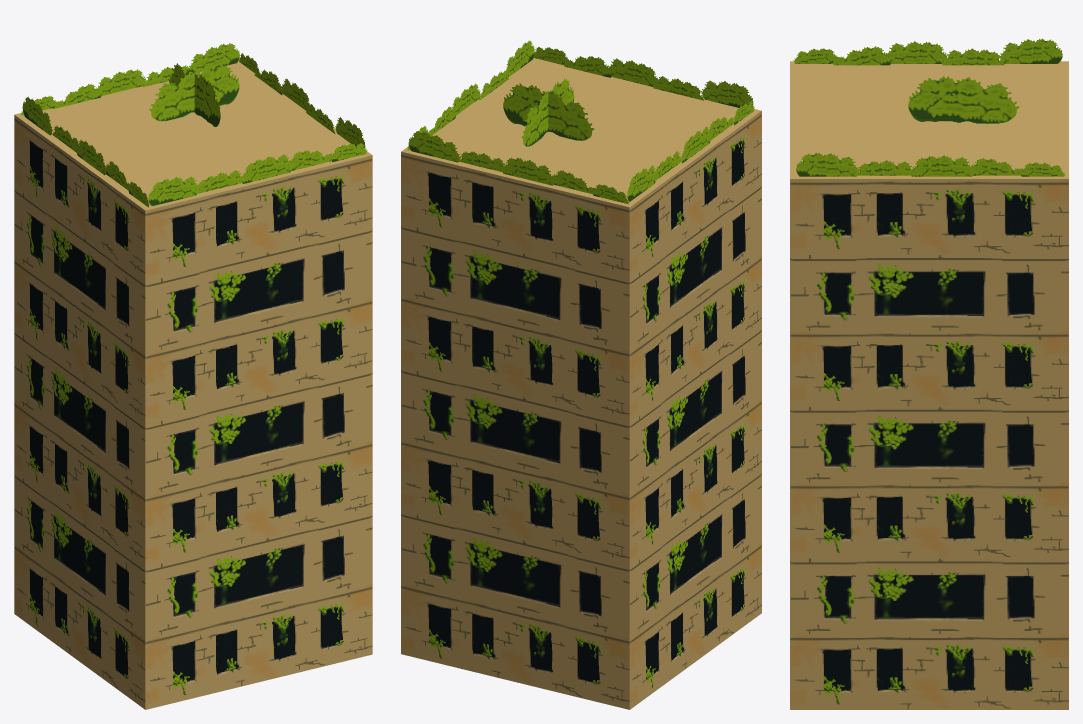
The model's file is building1.fbx.
3 views of the same model, side by side, from view 1: azimuth 30°, elevation 25°; view 2: azimuth 150°, elevation 25°; view 3: azimuth 270°, elevation 25° (orthographic). The views are drawn at different scales.
Visible parts, largest first — view 1: Building, Bushes; view 2: Building, Bushes; view 3: Building, Bushes.
Boxes of the visible parts, <box> form: Building: <box>14,60,372,709</box>; Bushes: <box>21,43,367,207</box>; Building: <box>401,58,761,709</box>; Bushes: <box>407,40,754,204</box>; Building: <box>790,61,1068,709</box>; Bushes: <box>793,38,1065,176</box>.
Bounding box in the file's own units: 1000 × 2578 × 1000.
2 materials, 2 textured.
